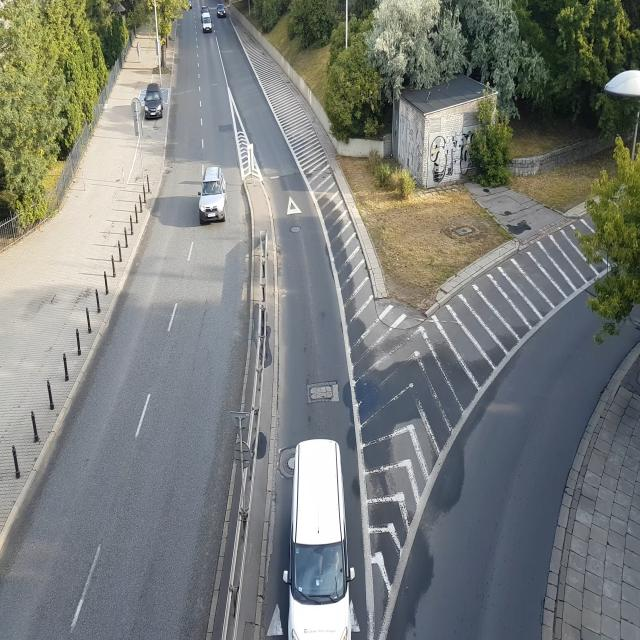car: (286, 436, 358, 640), (198, 167, 228, 223), (143, 88, 165, 120), (201, 22, 212, 33), (217, 7, 227, 19)
